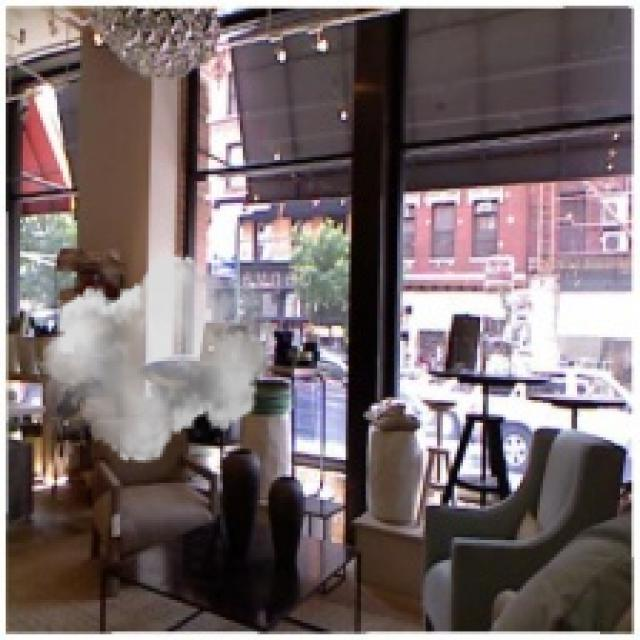Smoke: (37, 246, 277, 471)
